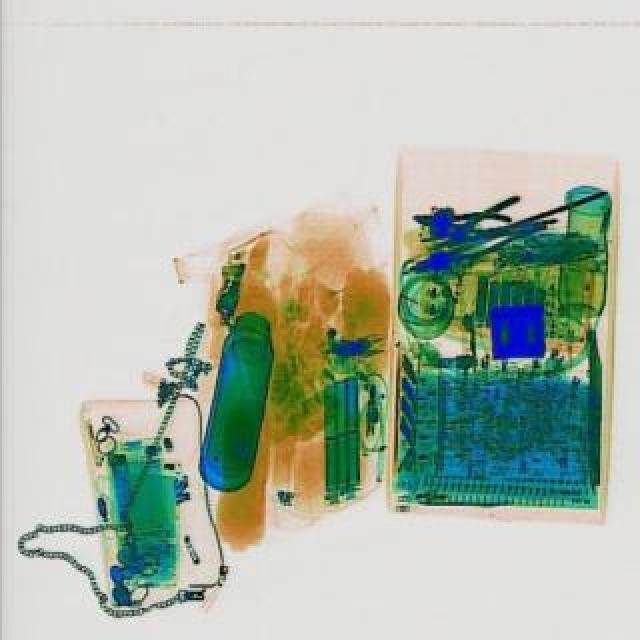wrench: (410, 202, 510, 238)
